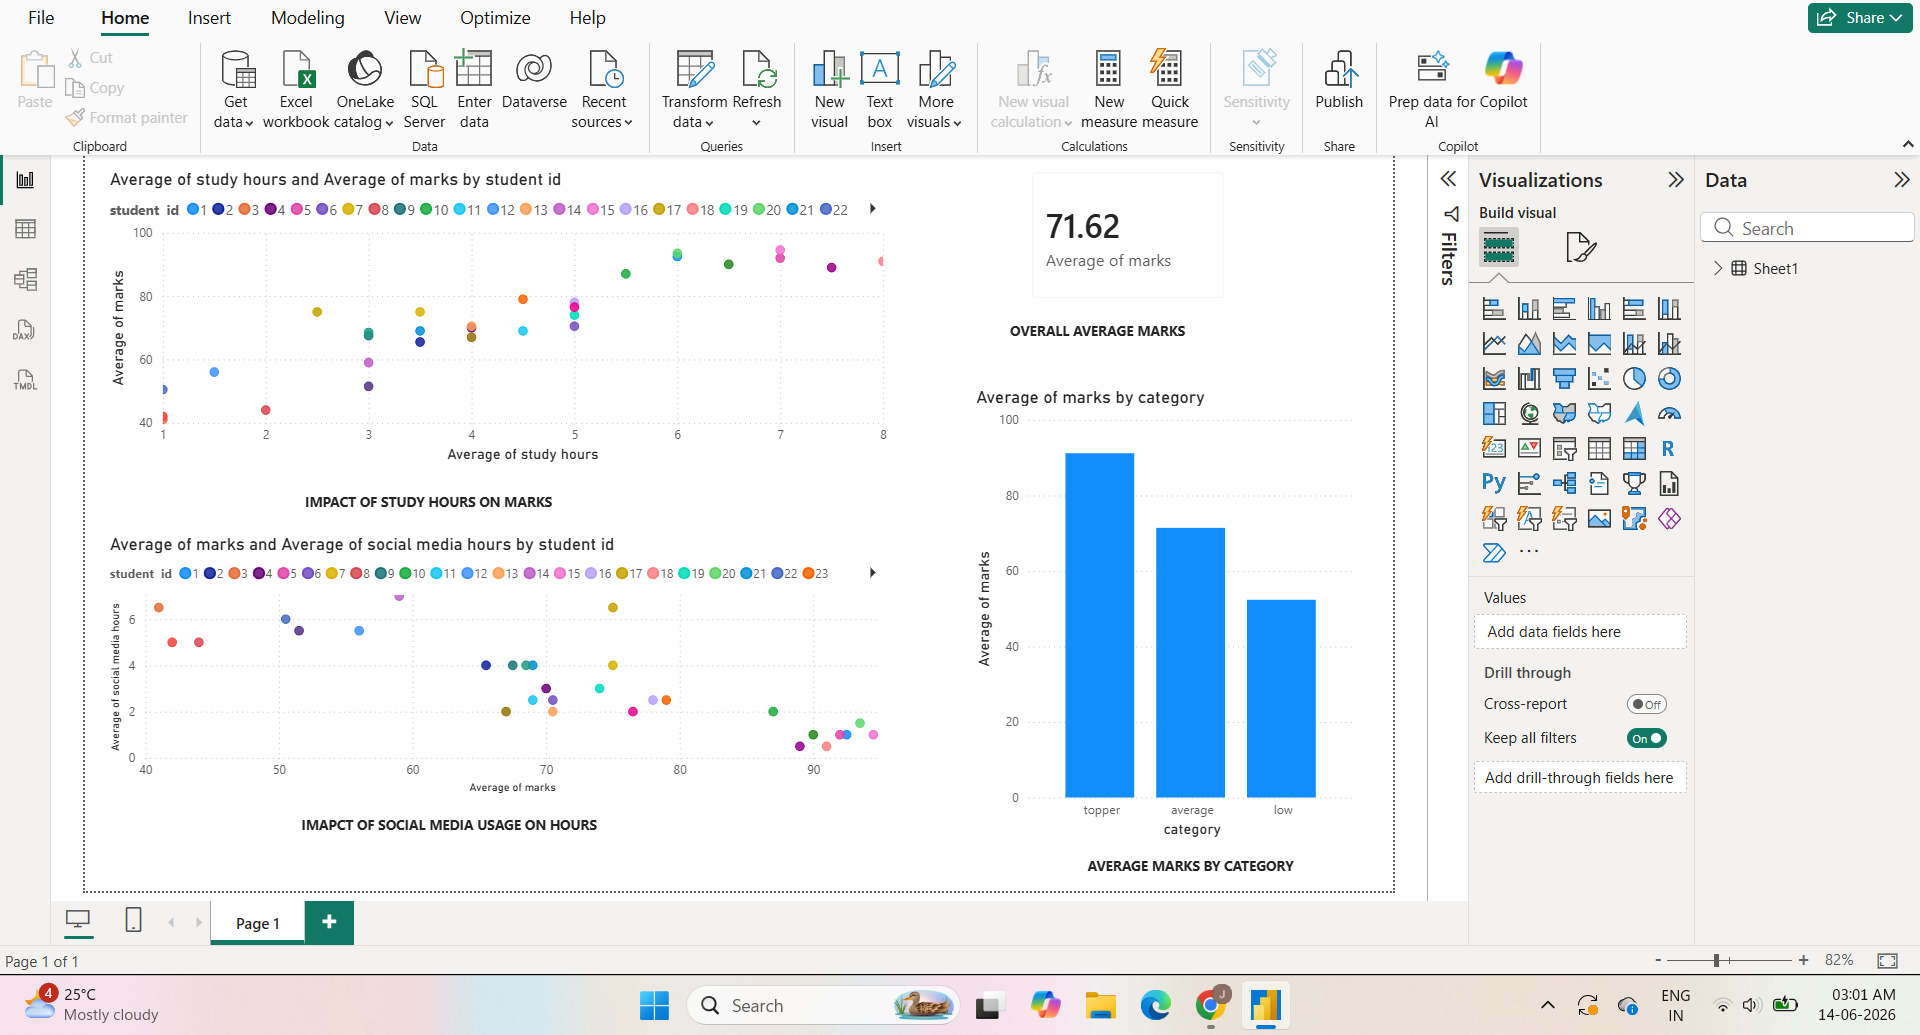

What the dashboard file says about the page in this screenshot:
{"tool":"powerbi","page":{"name":"Page 1","canvas":[1280,720],"ordinal":0},"visuals":[{"type":"scatterChart","fields":{"X":["Avg(Sheet1.study hours)"],"Y":["Avg(Sheet1.marks)"],"Series":["Sheet1.student  id"]},"box":[19.6,13.5,770.4,292.3],"z":0},{"type":"cardVisual","fields":{"Data":["Avg(Sheet1.marks)"]},"box":[909.8,0,222.6,157.7],"z":1000},{"type":"clusteredColumnChart","fields":{"Category":["Sheet1.category"],"Y":["Avg(Sheet1.marks)"]},"box":[867,226.2,381.5,446.3],"z":2000},{"type":"scatterChart","fields":{"Y":["Avg(Sheet1.social media hours)"],"X":["Avg(Sheet1.marks)"],"Series":["Sheet1.student  id"]},"box":[19.6,370.5,770.4,259.2],"z":3000},{"type":"textbox","box":[206.7,325.3,278.8,34.2],"z":4000},{"type":"textbox","box":[975.8,681.1,212.8,28.1],"z":5000},{"type":"textbox","box":[900,157.7,255.6,39.1],"z":6000},{"type":"textbox","box":[206.7,640.8,300.8,31.8],"z":7000}]}

Visuals, with their boxes on the page's 1280x720 design canvas (x1, y1, x2, y2). These are canvas units, not pixel positions in the 1920x1035 screenshot, which may show the page scaled, cropped or inside an application window:
scatterChart - Avg(Sheet1.study hours) x Avg(Sheet1.marks): (x1=20, y1=14, x2=790, y2=306)
cardVisual - Avg(Sheet1.marks): (x1=910, y1=0, x2=1132, y2=158)
clusteredColumnChart - Sheet1.category x Avg(Sheet1.marks): (x1=867, y1=226, x2=1248, y2=672)
scatterChart - Avg(Sheet1.social media hours) x Avg(Sheet1.marks): (x1=20, y1=370, x2=790, y2=630)
textbox: (x1=207, y1=325, x2=486, y2=360)
textbox: (x1=976, y1=681, x2=1189, y2=709)
textbox: (x1=900, y1=158, x2=1156, y2=197)
textbox: (x1=207, y1=641, x2=508, y2=673)
